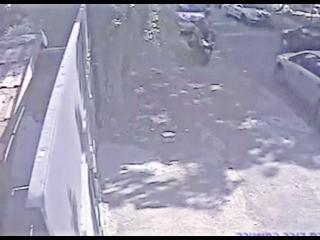Car: (276, 45, 320, 110), (226, 3, 273, 28), (282, 21, 320, 50), (174, 5, 206, 35)
Motor: (187, 14, 220, 64)
Not Accident: (173, 2, 221, 65)
